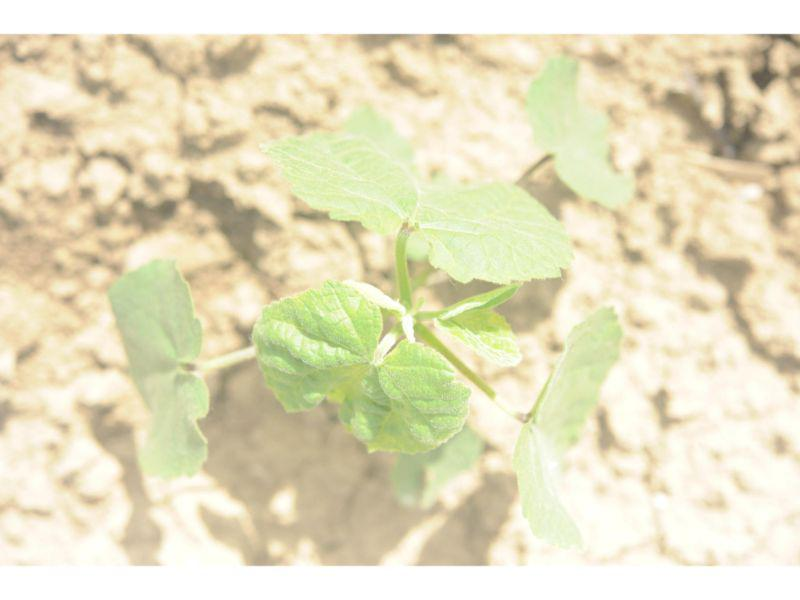velvet: (107, 57, 633, 539)
